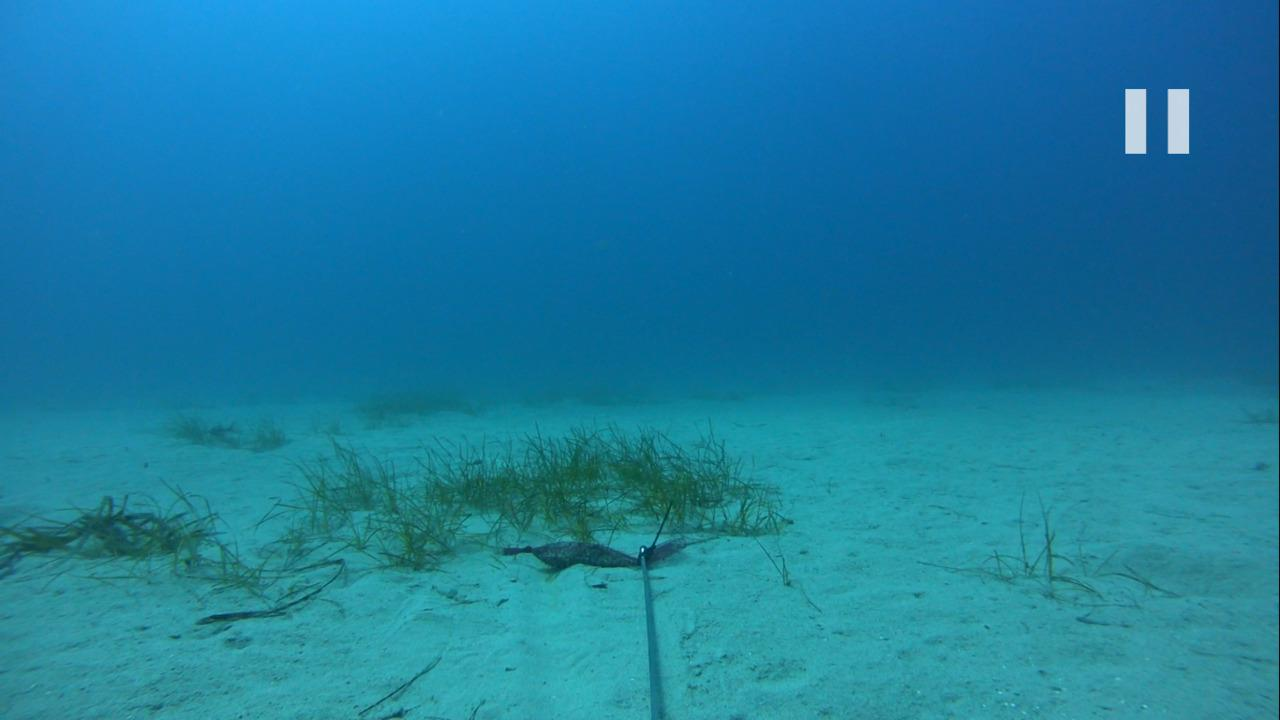dactylopterus: (194, 416, 250, 445)
